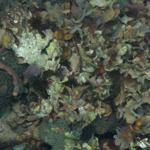dead: (3, 4, 146, 146)
